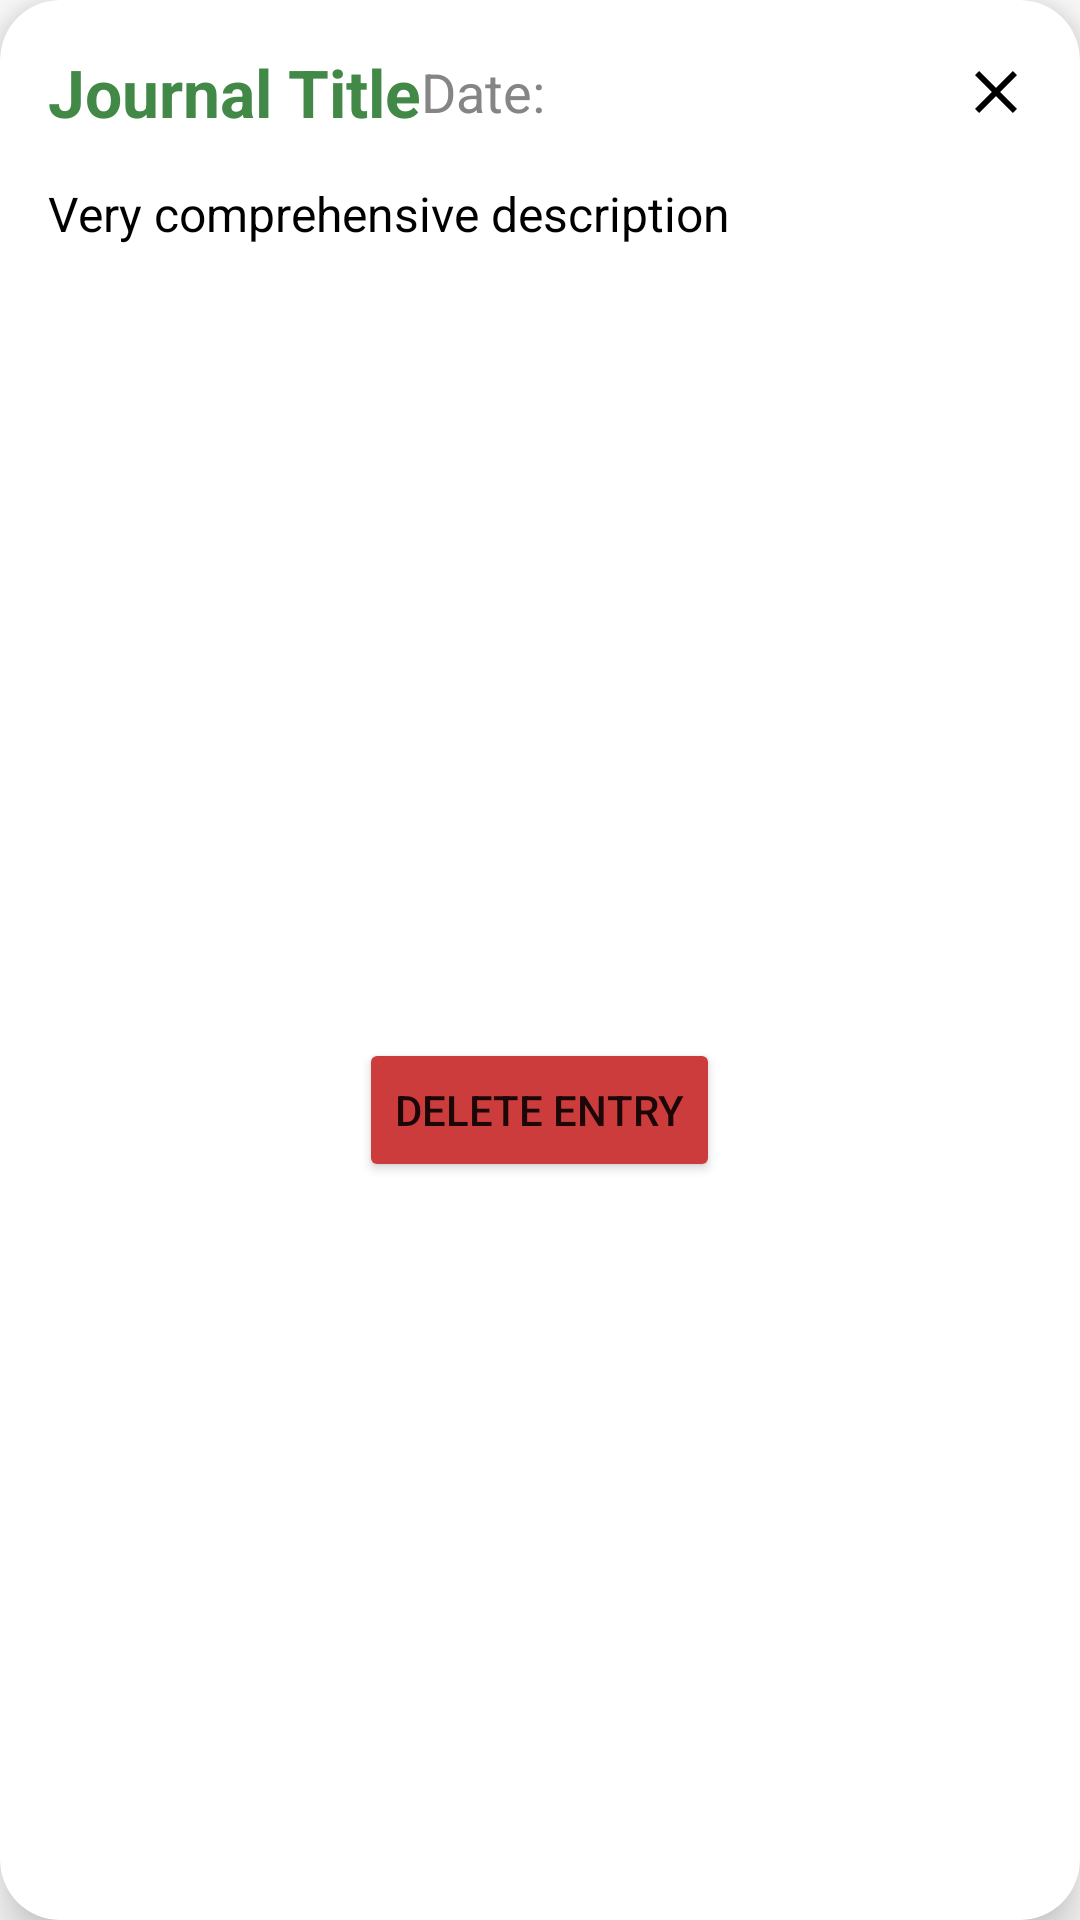

Point at icon controls on the screen. Image size 1080×1920, points as (x,y).
exit: (996,92)
